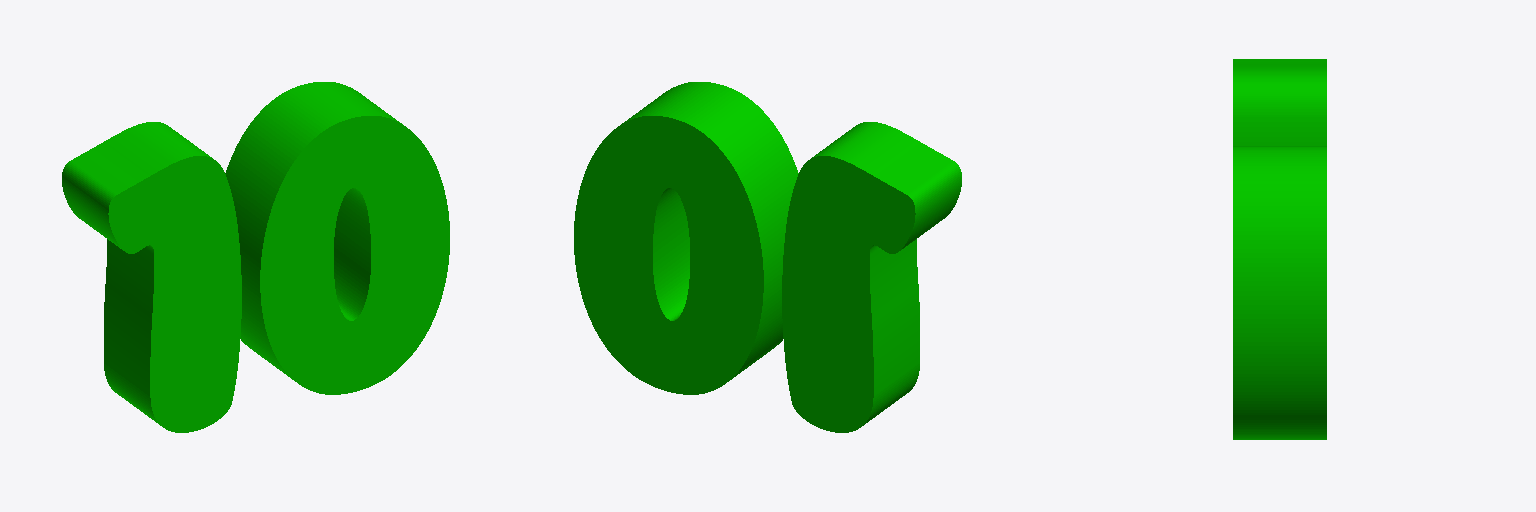
The model's file is Number10.obj.
3 renders of one model, left to right at view 1: azimuth 30°, elevation 25°; view 2: azimuth 150°, elevation 25°; view 3: azimuth 270°, elevation 25°, orthographic.
Visible parts, largest first — view 1: Text; view 2: Text; view 3: Text.
Part boxes in pixels (x1,y1,x2,y2): Text: (62,82,449,432); Text: (574,82,961,432); Text: (1233,59,1326,439).
Size of the model in its own units: 0.7606 by 0.5856 by 0.18.